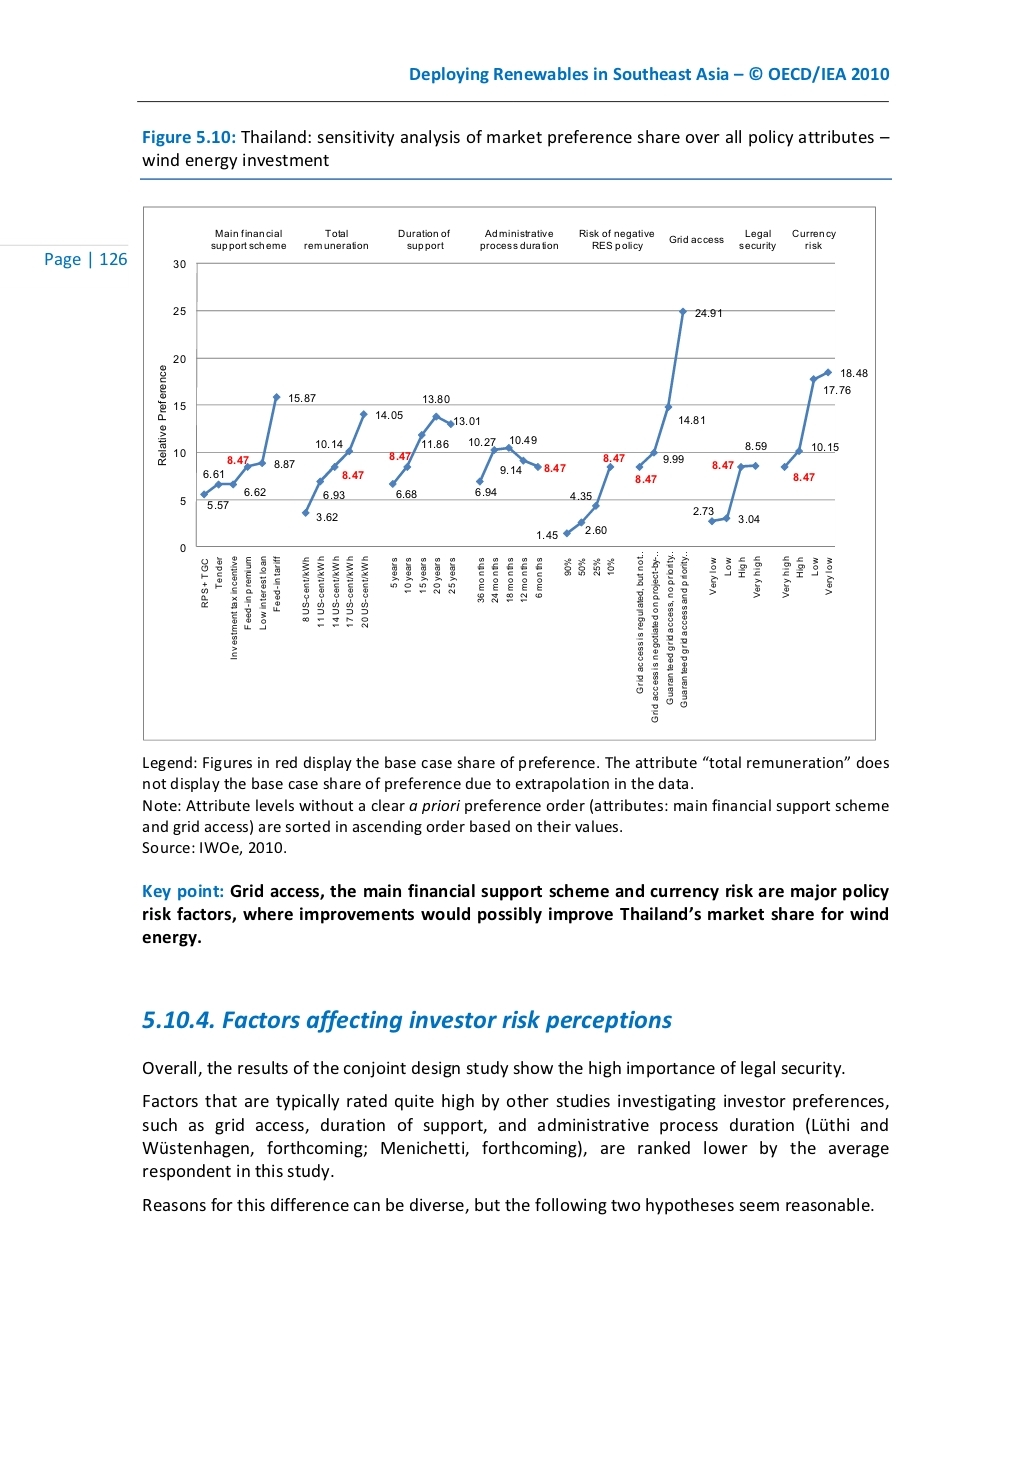figure: (143, 205, 875, 741)
